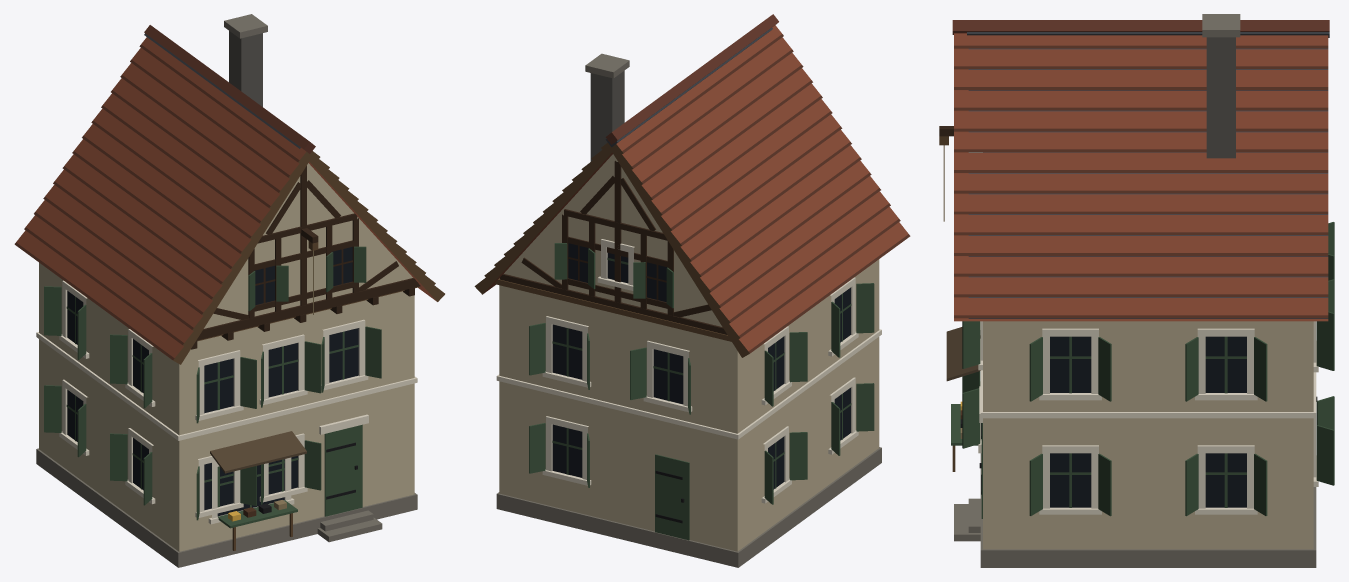
Rendered from einwohner_buergerhaus.glb.
3 views of the same model, side by side, from view 1: azimuth 30°, elevation 25°; view 2: azimuth 150°, elevation 25°; view 3: azimuth 270°, elevation 25° (orthographic). The views are drawn at different scales.
Visible parts, largest first — view 1: Variante1, Variante3, Variante2; view 2: Variante1, Variante3, Variante2; view 3: Variante1, Variante3, Variante2.
Part boxes in pixels (x1=…): Variante1: x1=15, y1=14, x2=430, y2=567; Variante3: x1=15, y1=25, x2=444, y2=550; Variante2: x1=144, y1=23, x2=318, y2=314; Variante1: x1=474, y1=26, x2=903, y2=567; Variante3: x1=486, y1=14, x2=910, y2=352; Variante2: x1=478, y1=27, x2=772, y2=357; Variante1: x1=954, y1=14, x2=1334, y2=567; Variante3: x1=946, y1=20, x2=1329, y2=471; Variante2: x1=939, y1=32, x2=1329, y2=318.
Bounding box in the file's own units: 7.64 × 11.48 × 8.13.
